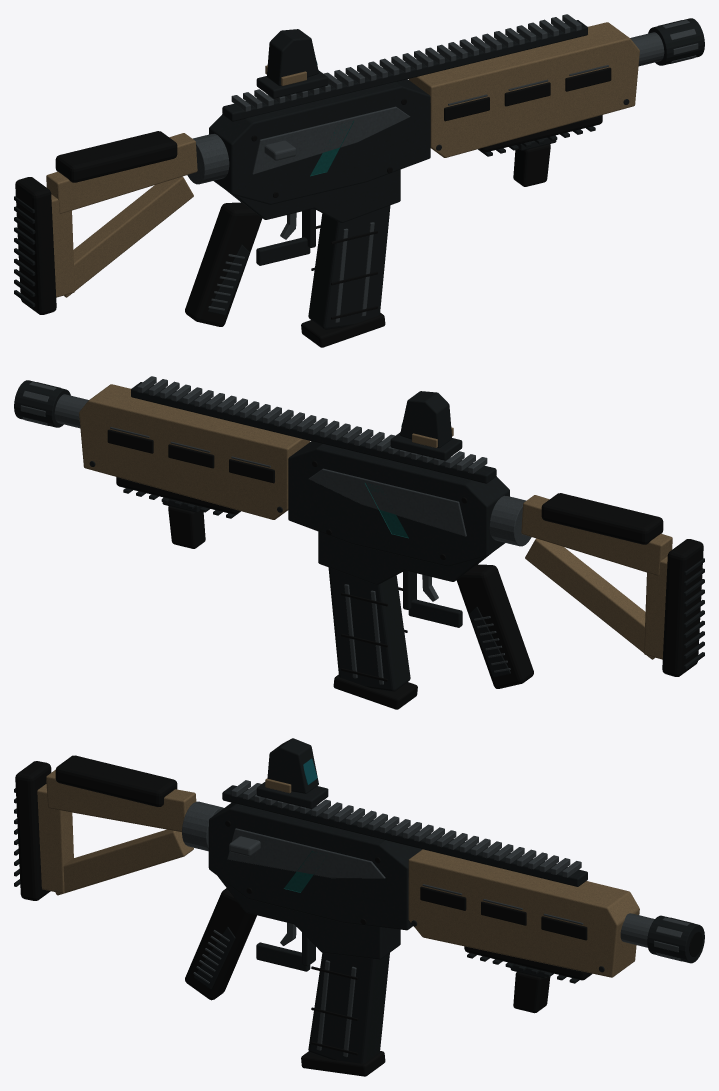
Rendered from kite01.standard.glb.
The picture shows the model from 3 angles, top to bottom: view 1: azimuth 30°, elevation 25°; view 2: azimuth 150°, elevation 25°; view 3: azimuth 330°, elevation 25°; orthographic projection.
Parts seen in each view (by area): view 1: kite01.standard__root, kite01.standard__stock.standard, kite01.standard__handguard.standard, kite01.standard__magazine, kite01.standard__grip, kite01.standard__sight, kite01.standard__muzzle, kite01.standard__grip_addon; view 2: kite01.standard__root, kite01.standard__stock.standard, kite01.standard__handguard.standard, kite01.standard__magazine, kite01.standard__grip, kite01.standard__sight, kite01.standard__muzzle, kite01.standard__grip_addon; view 3: kite01.standard__root, kite01.standard__handguard.standard, kite01.standard__stock.standard, kite01.standard__magazine, kite01.standard__grip, kite01.standard__sight, kite01.standard__muzzle, kite01.standard__grip_addon.
Boxes of the visible parts, x1,y1,x2,y2 form: kite01.standard__root: (209, 14, 587, 265); kite01.standard__stock.standard: (14, 131, 229, 314); kite01.standard__handguard.standard: (408, 22, 639, 157); kite01.standard__magazine: (301, 205, 390, 347); kite01.standard__grip: (185, 202, 262, 326); kite01.standard__sight: (256, 29, 328, 98); kite01.standard__muzzle: (630, 18, 704, 66); kite01.standard__grip_addon: (513, 135, 556, 186); kite01.standard__root: (131, 376, 509, 627); kite01.standard__stock.standard: (489, 493, 704, 676); kite01.standard__handguard.standard: (79, 384, 310, 519); kite01.standard__magazine: (328, 567, 417, 709); kite01.standard__grip: (456, 564, 533, 688); kite01.standard__sight: (390, 391, 462, 460); kite01.standard__muzzle: (14, 380, 88, 428); kite01.standard__grip_addon: (162, 497, 205, 548); kite01.standard__root: (208, 780, 587, 971); kite01.standard__handguard.standard: (408, 849, 639, 983); kite01.standard__stock.standard: (14, 755, 223, 900); kite01.standard__magazine: (301, 953, 389, 1076); kite01.standard__grip: (185, 888, 256, 1000); kite01.standard__sight: (256, 738, 328, 808); kite01.standard__muzzle: (620, 913, 704, 963); kite01.standard__grip_addon: (510, 964, 550, 1013).
Bounding box in the file's own units: 0.9445 × 0.4191 × 0.09.
Materials: 6 (6 with a texture image).
